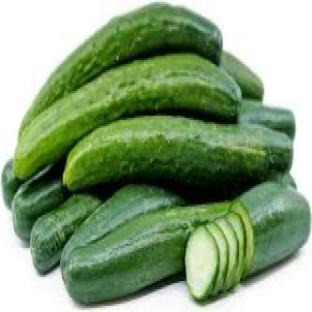Cucumber: (14, 54, 240, 177), (20, 5, 222, 136), (64, 116, 292, 190), (63, 203, 228, 303), (61, 184, 184, 272), (231, 182, 311, 276), (30, 195, 102, 274), (13, 168, 68, 241), (185, 226, 220, 301), (238, 100, 295, 138), (221, 52, 264, 99), (231, 201, 254, 278), (216, 217, 238, 291), (226, 211, 246, 287), (207, 224, 228, 295), (1, 160, 22, 208), (269, 172, 297, 188)
